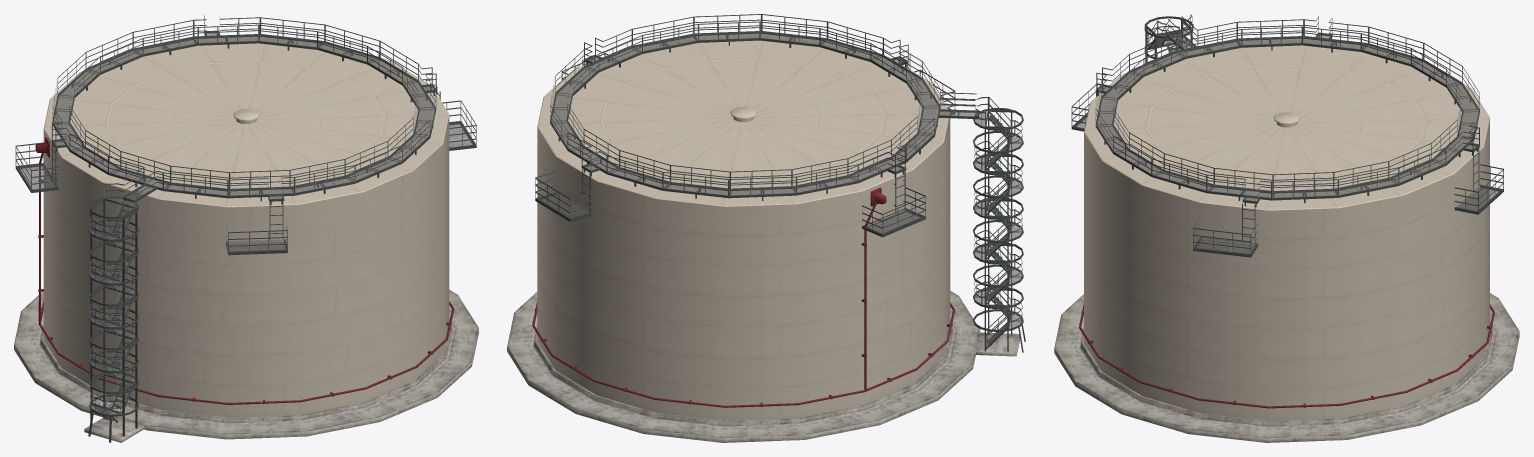
File: plant-building23.glb
3 views of the same model, side by side, from view 1: azimuth 30°, elevation 25°; view 2: azimuth 150°, elevation 25°; view 3: azimuth 270°, elevation 25° (orthographic).
Parts seen in each view (by area): view 1: Object8935538; view 2: Object8935538; view 3: Object8935538.
Boxes of the visible parts, left/top/right/bottom form: Object8935538: left=14, top=15, right=478, bottom=442; Object8935538: left=507, top=14, right=1025, bottom=442; Object8935538: left=1054, top=14, right=1519, bottom=442.
Bounding box in the file's own units: 27.59 × 15.33 × 26.59.
Materials: 1 (1 with a texture image).
